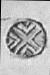O49: (4, 0, 46, 74)
